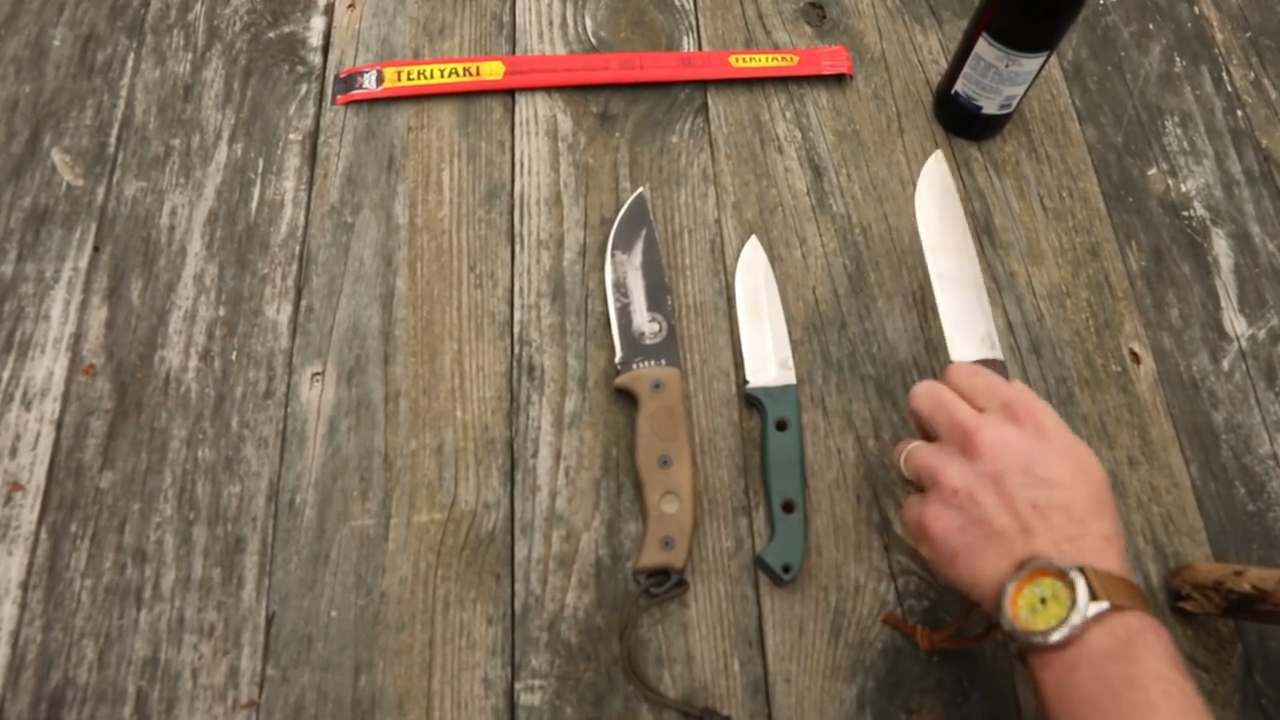knife: (878, 131, 1093, 548), (592, 166, 700, 406), (720, 218, 810, 406)
